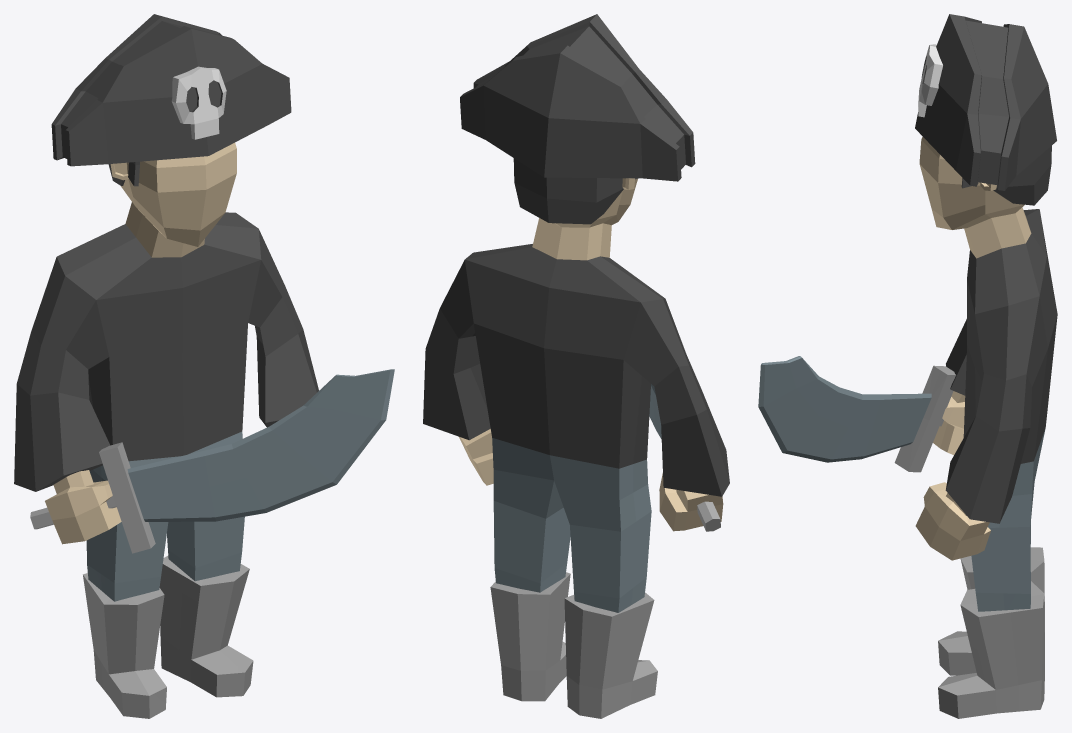
File: pirate_zeroed.fbx
3 views of the same model, side by side, from view 1: azimuth 30°, elevation 25°; view 2: azimuth 150°, elevation 25°; view 3: azimuth 270°, elevation 25° (orthographic).
Visible parts, largest first — view 1: pirate_zeroed; view 2: pirate_zeroed; view 3: pirate_zeroed.
Boxes of the visible parts, x1=… form: pirate_zeroed: x1=14, y1=14, x2=394, y2=718; pirate_zeroed: x1=423, y1=14, x2=729, y2=718; pirate_zeroed: x1=758, y1=14, x2=1057, y2=718.
Size of the model in its own units: 0.4789 by 1.01 by 0.4081.
